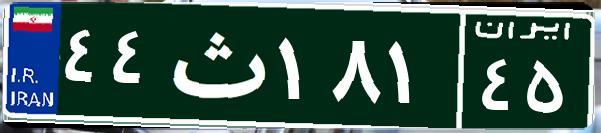1: (385, 28, 445, 110), (273, 28, 330, 110)
4: (57, 26, 110, 107), (475, 38, 525, 113), (110, 28, 158, 105)
5: (525, 38, 570, 115)
8: (330, 28, 385, 110)
ث: (158, 15, 273, 115)
